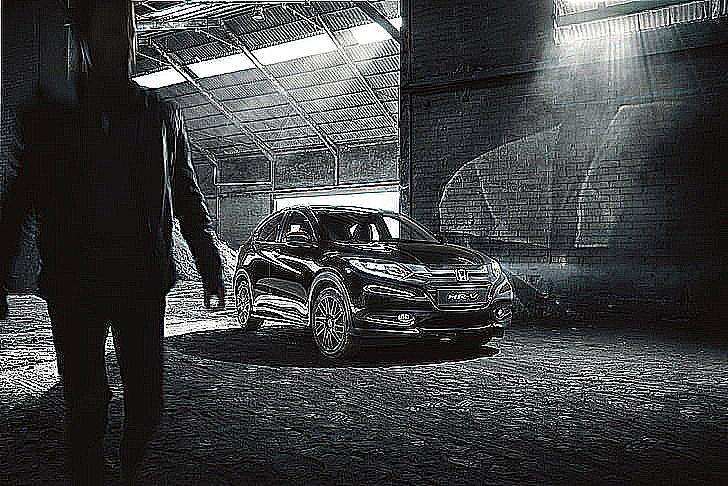Car hood: (330, 237, 501, 268)
Driver-s door - -F-R-: (276, 208, 319, 312)
Fender - -F-R-: (305, 244, 351, 328)
Fender - -R-R-: (247, 209, 287, 310)
Front bumper: (346, 280, 514, 347)
Headlight - -L-: (488, 256, 508, 283)
Headlight - -R-: (347, 253, 436, 285)
Side bumper - -R-: (247, 302, 316, 335)
Side mirror - -R-: (280, 223, 322, 250)
